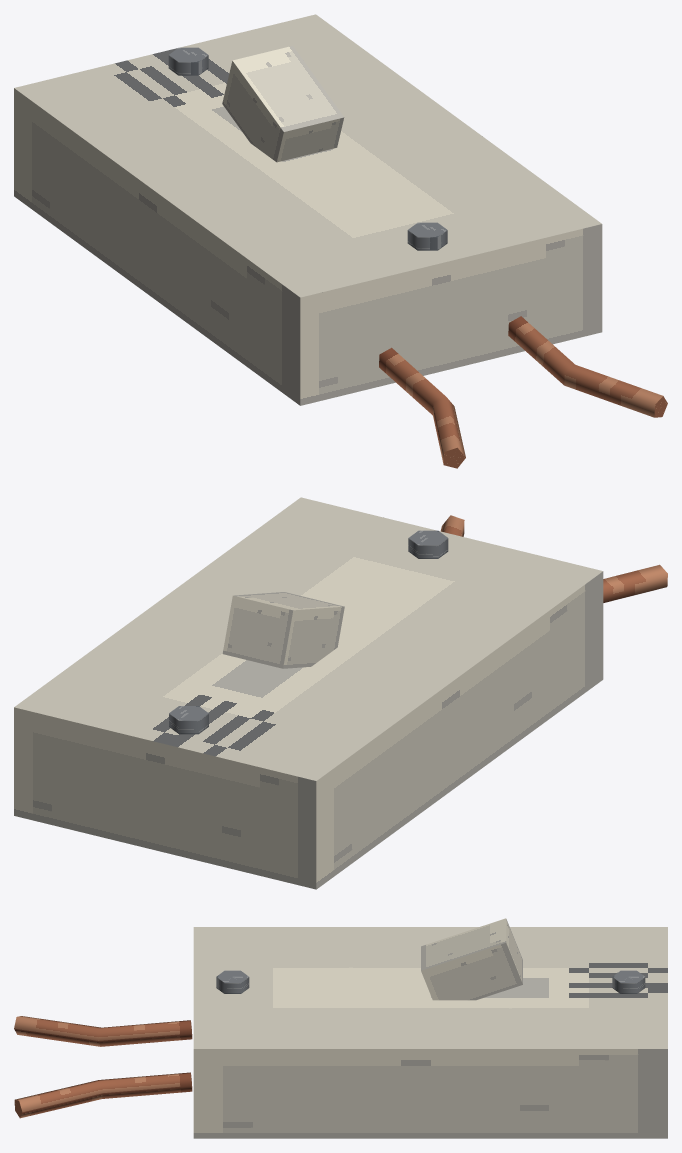
Rendered from INV_ElectricalSwitch.glb.
3 renders of one model, top to bottom at view 1: azimuth 30°, elevation 25°; view 2: azimuth 150°, elevation 25°; view 3: azimuth 270°, elevation 25°, orthographic. The views are drawn at different scales.
Parts seen in each view (by area): view 1: INV_ElectricalSwitch_Mesh; view 2: INV_ElectricalSwitch_Mesh; view 3: INV_ElectricalSwitch_Mesh.
Part boxes in pixels (x1,y1,x2,y2): INV_ElectricalSwitch_Mesh: [14, 14, 667, 468]; INV_ElectricalSwitch_Mesh: [14, 497, 667, 889]; INV_ElectricalSwitch_Mesh: [14, 918, 667, 1138].
Size of what is drawn, in the model's own units: 0.07 by 0.0394 by 0.1585.
Materials: 1 (1 with a texture image).
